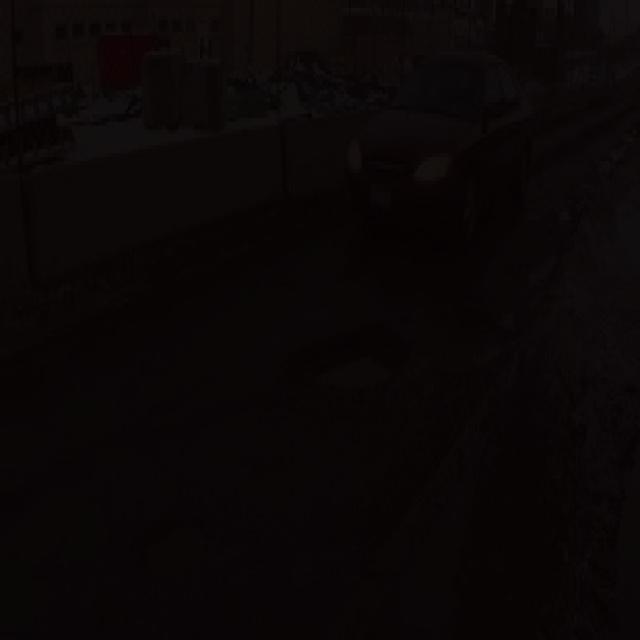Pothole: (377, 373, 531, 640), (136, 512, 229, 588), (300, 327, 406, 392)
